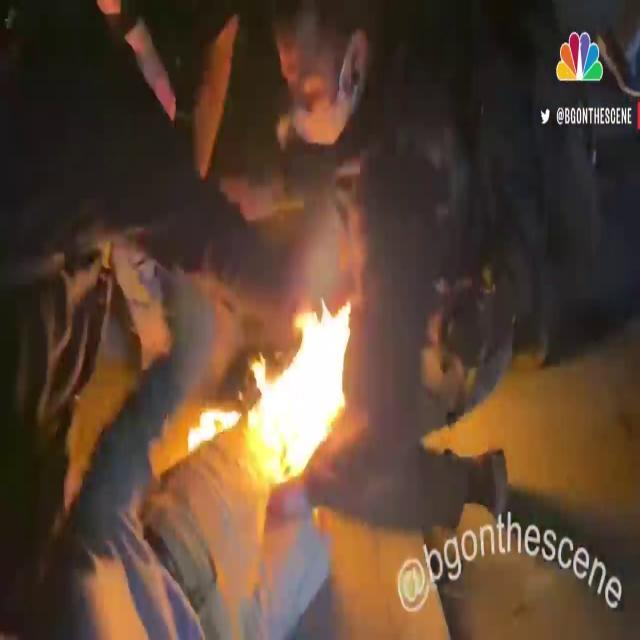Fire: (187, 279, 367, 486)
Smoke: (364, 0, 640, 379)
